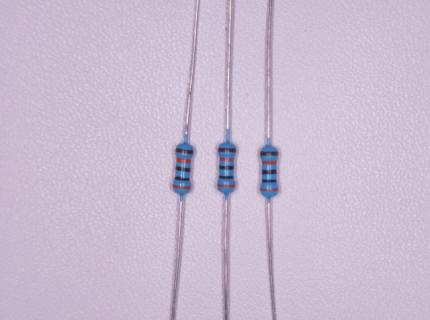Black band: (176, 166, 190, 172), (262, 170, 277, 174), (220, 166, 234, 170), (175, 177, 189, 181), (263, 180, 277, 183), (220, 176, 233, 179)
Brown band: (175, 148, 193, 154), (218, 148, 236, 152), (260, 152, 278, 156)
Orange band: (176, 157, 191, 164), (173, 185, 190, 189), (218, 184, 235, 187), (261, 188, 278, 191), (262, 161, 277, 164), (220, 158, 234, 161)
